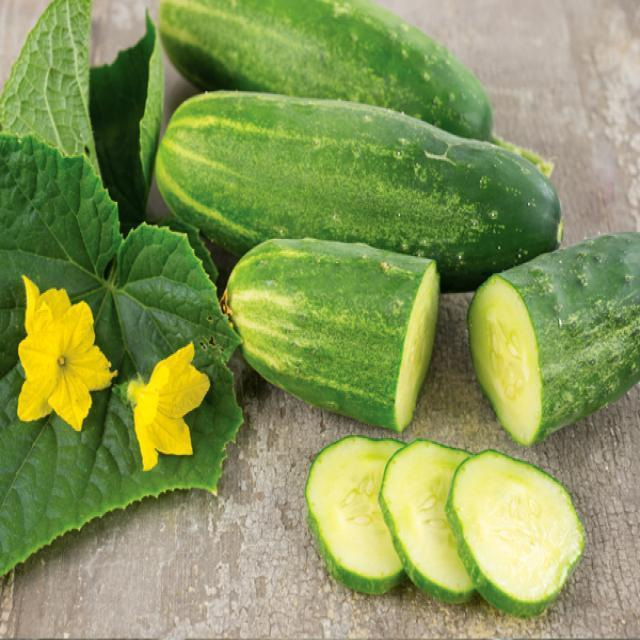Cucumber: (159, 92, 560, 284), (160, 1, 502, 142), (227, 237, 436, 428), (471, 228, 640, 446)
